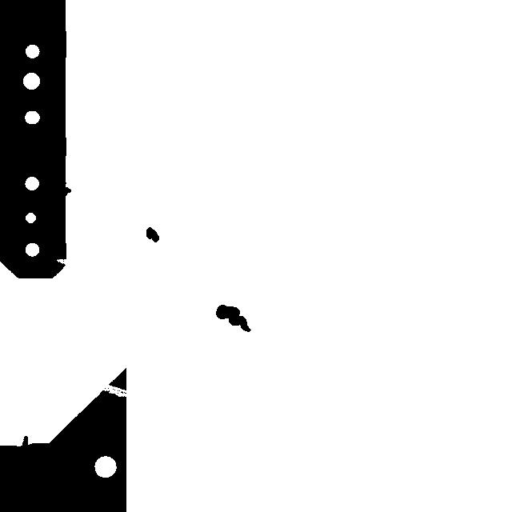copper: (208, 297, 258, 339), (138, 219, 166, 250)
mousebite: (49, 251, 74, 272)
open: (94, 376, 138, 404)
pin-hole: (15, 65, 47, 97), (18, 205, 43, 230)
spur: (14, 428, 35, 459), (54, 179, 78, 203)
